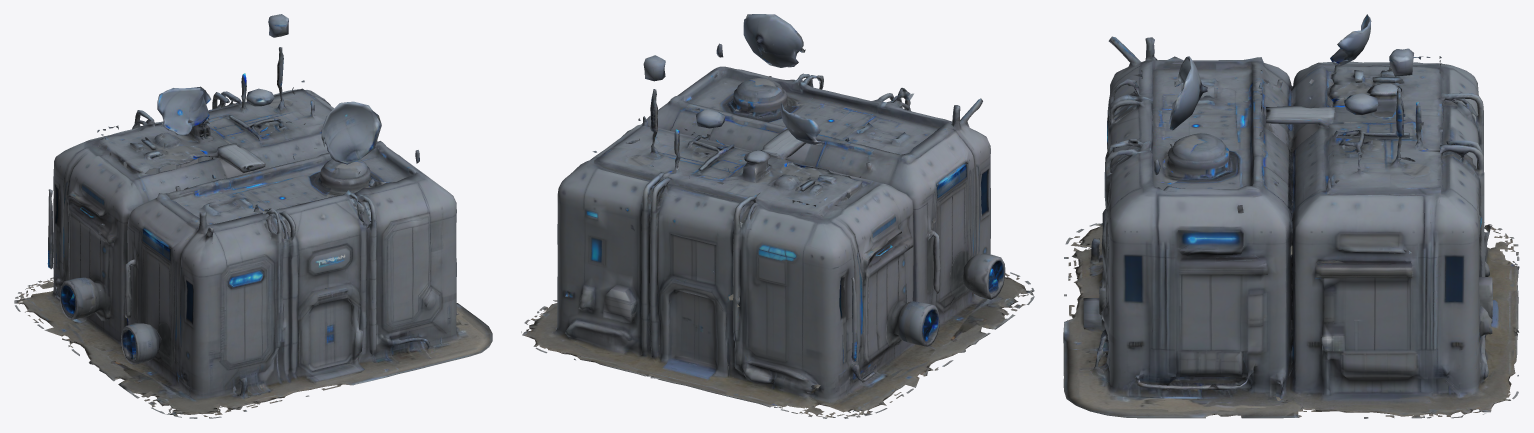
File: physics_lab.glb
3 renders of one model, left to right at view 1: azimuth 30°, elevation 25°; view 2: azimuth 150°, elevation 25°; view 3: azimuth 270°, elevation 25°, orthographic. The views are drawn at different scales.
Bounding box in the file's own units: 2 × 1.43 × 1.91.
1 material, 1 textured.
